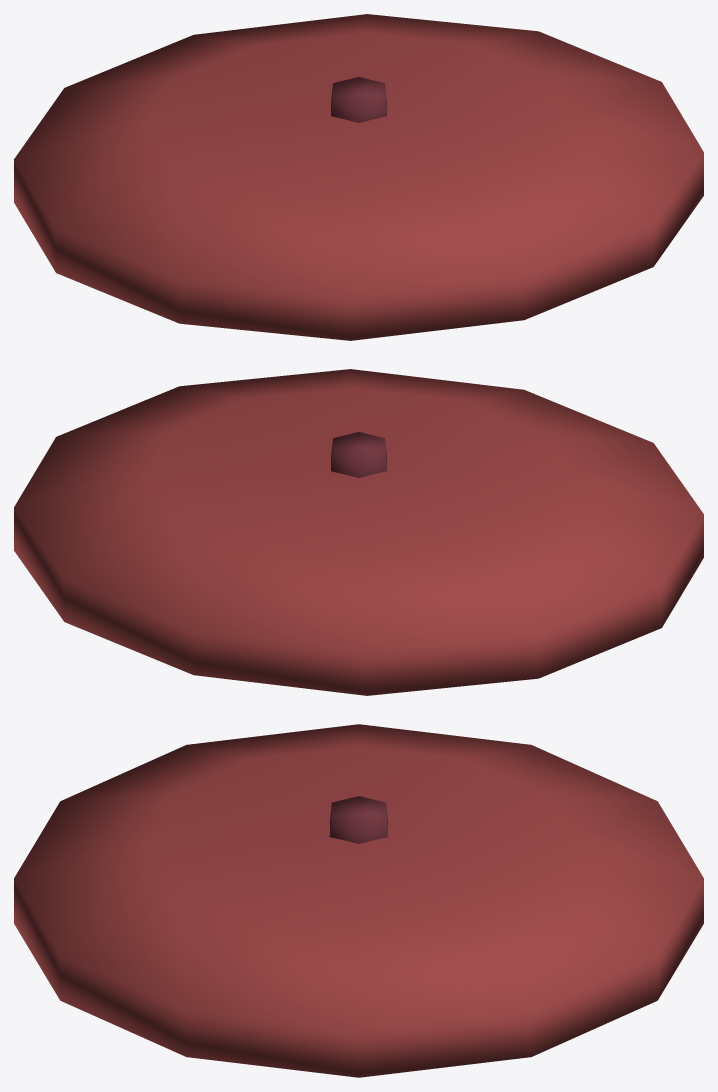
The model's file is wear_beret.glb.
3 views of the same model, one above another, from view 1: azimuth 30°, elevation 25°; view 2: azimuth 150°, elevation 25°; view 3: azimuth 270°, elevation 25° (orthographic). The views are drawn at different scales.
Visible parts, largest first — view 1: Item; view 2: Item; view 3: Item.
Part boxes in pixels (x1,y1,x2,y2): Item: [14, 14, 703, 340]; Item: [14, 369, 703, 695]; Item: [14, 724, 703, 1077].
Size of the model in its own units: 0.4614 by 0.115 by 0.4362.
